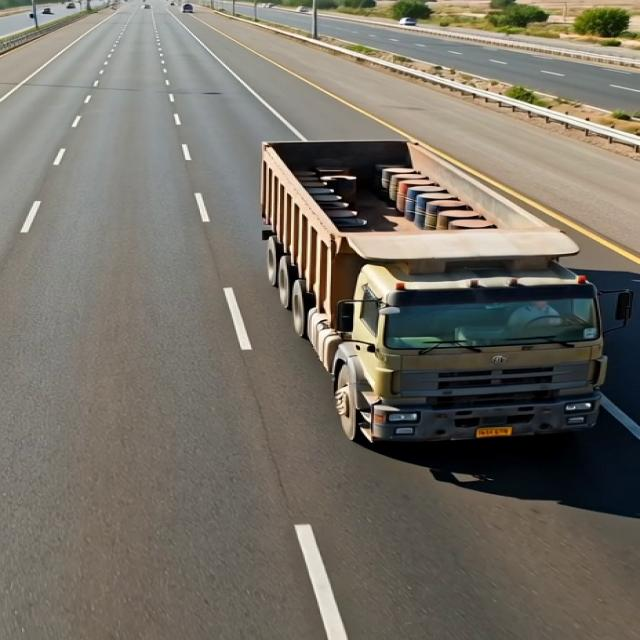trailer: (230, 137, 579, 249)
truck: (220, 130, 626, 460)
